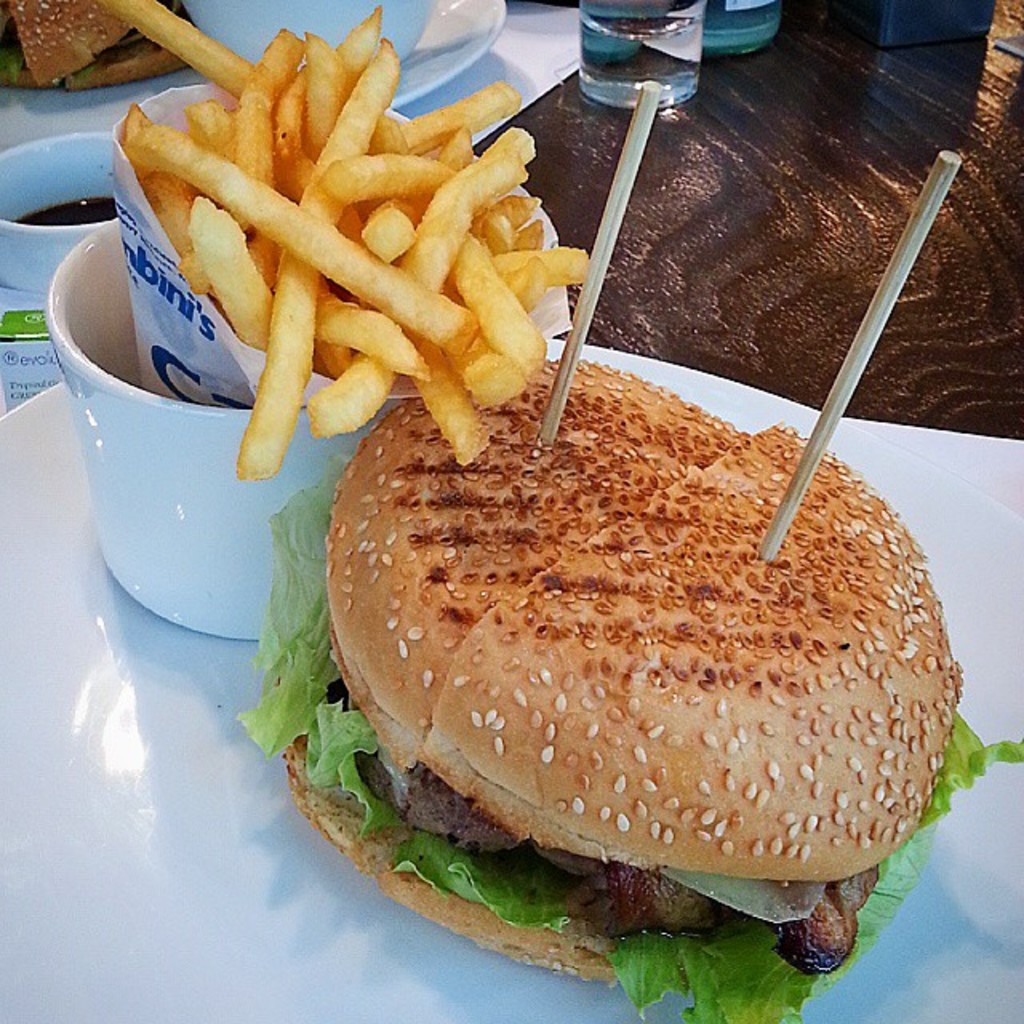French fries: (113, 14, 551, 462)
